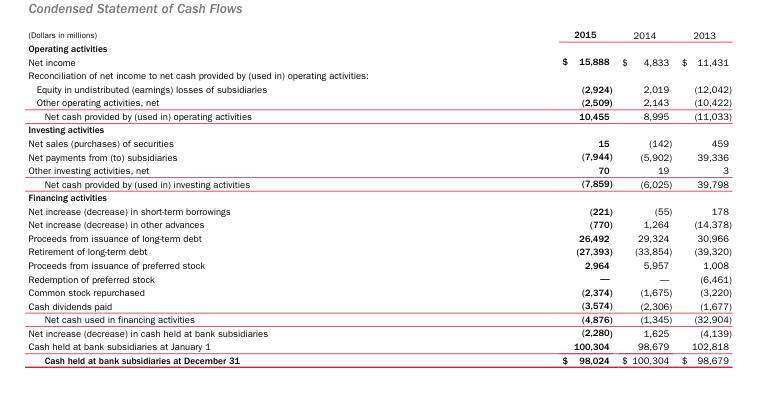table: (27, 28, 730, 365)
table column: (27, 28, 414, 365), (414, 28, 616, 365), (616, 28, 675, 365), (675, 28, 730, 365)
table column header: (27, 28, 730, 40)
table projected row header: (27, 40, 730, 54), (27, 68, 730, 81), (27, 122, 730, 135), (27, 190, 730, 203)
table row: (27, 40, 730, 54), (27, 54, 730, 68), (27, 81, 730, 95), (27, 108, 730, 122), (27, 135, 730, 149), (27, 162, 730, 176), (27, 176, 730, 190), (27, 203, 730, 217), (27, 230, 730, 244), (27, 257, 730, 271), (27, 284, 730, 298), (27, 298, 730, 312), (27, 325, 730, 339), (27, 68, 730, 81), (27, 95, 730, 108), (27, 122, 730, 135), (27, 149, 730, 162), (27, 190, 730, 203), (27, 217, 730, 230), (27, 244, 730, 257), (27, 271, 730, 284), (27, 312, 730, 325), (27, 339, 730, 352), (27, 352, 730, 365), (27, 28, 730, 40)
